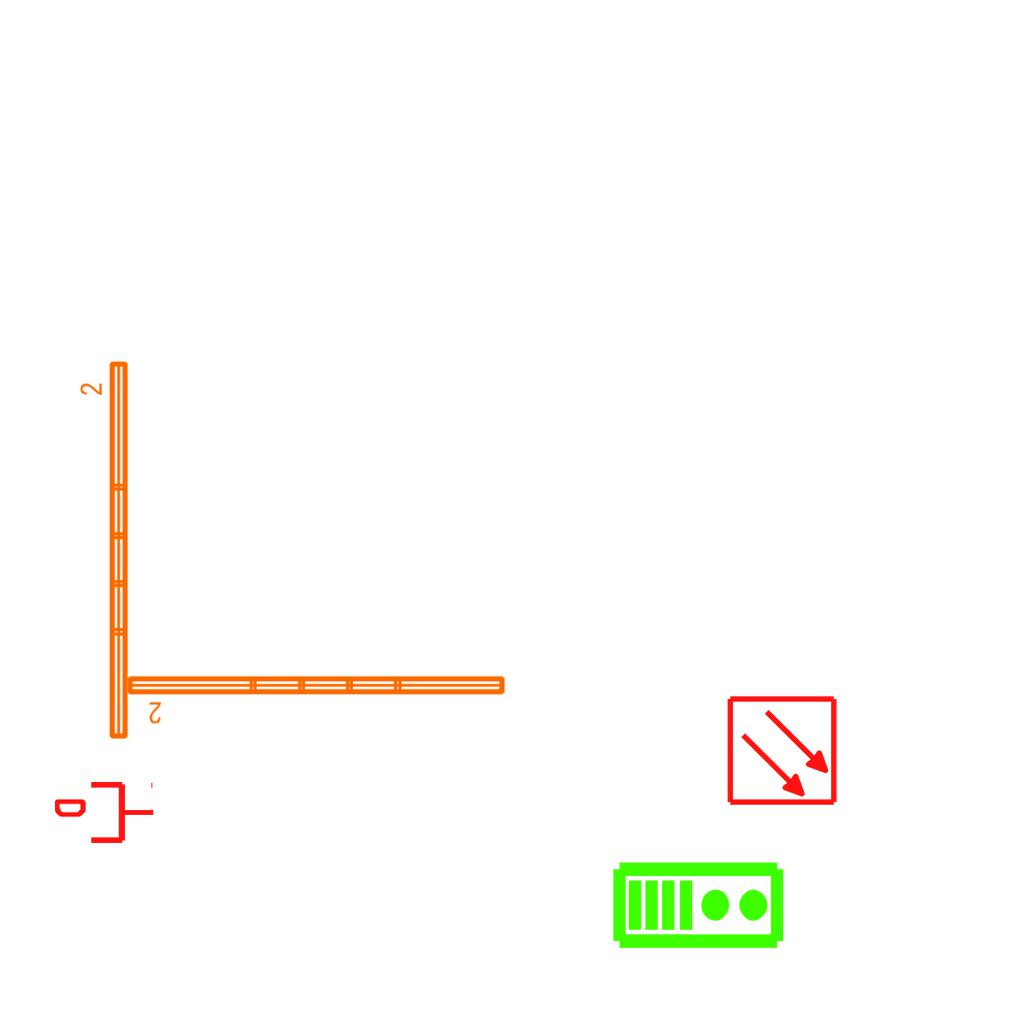Ambulanz_Pendelleuchte_LED: (78, 357, 134, 744), (123, 670, 510, 726)
Datenanschluss_einfach: (55, 778, 155, 847)
Gegensprechanlage_mit_Video: (611, 856, 787, 951)
RMO_Rauchmelder_optischer: (726, 694, 839, 807)
